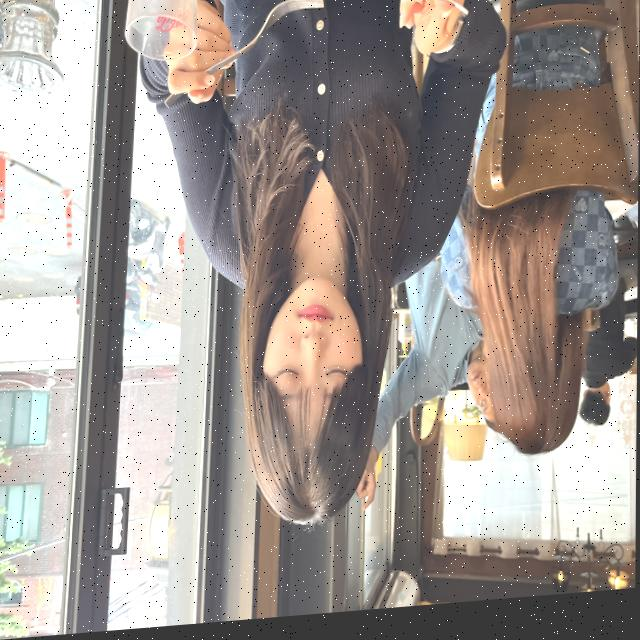eating-person: (133, 0, 514, 571)
